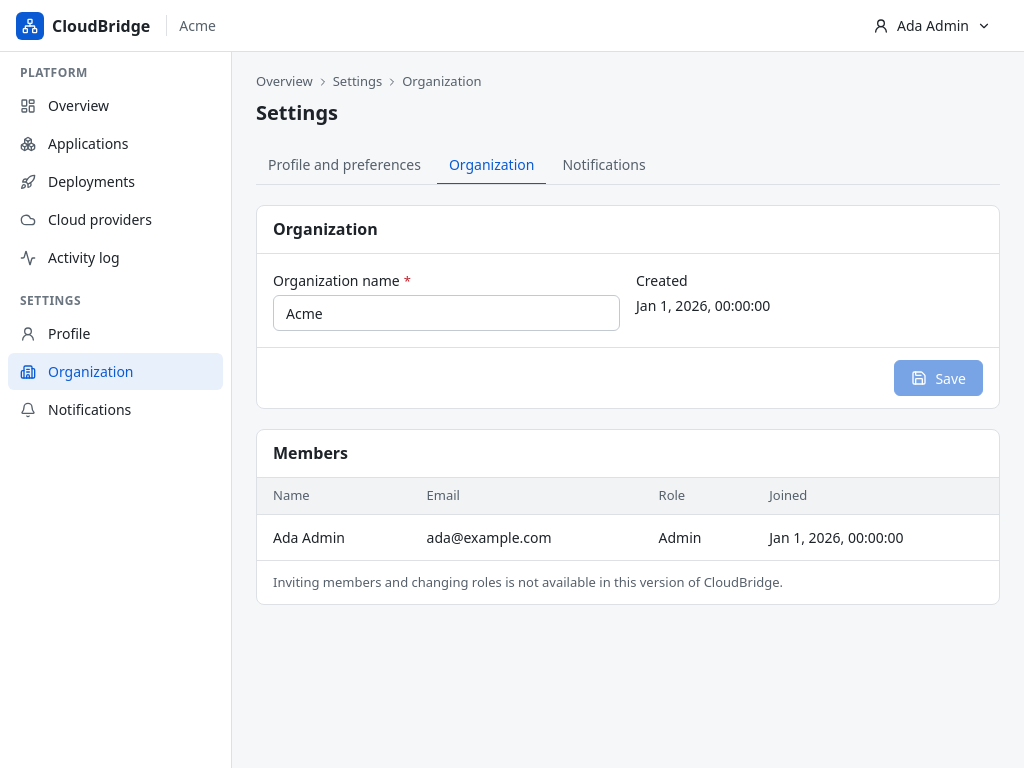
Test: settings › shows members read-only and lets administrators rename the organization
The width and height of the screenshot is (1024, 768).
Expected: the table named "Organization members" is shown, [257,478,999,560]
Step 1. Replace the text in the field labelled "Organization name*" with "Acme Cloud" → {"x": 446, "y": 313}, box [273,295,620,331]
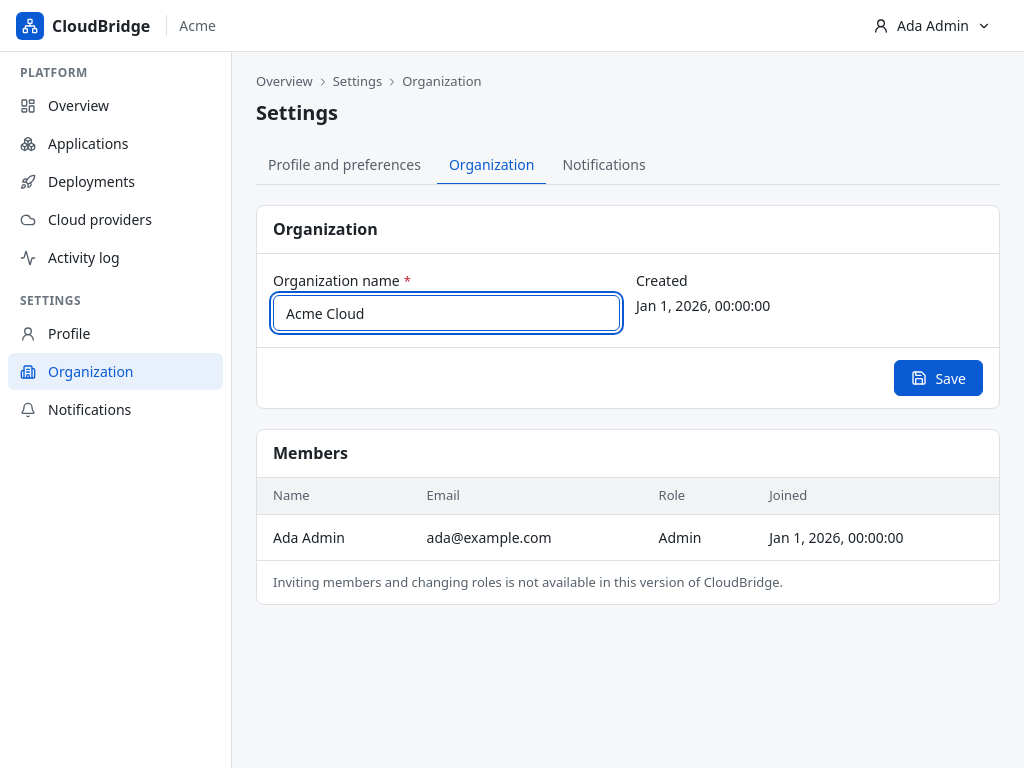
Step 2. Click the button "Save" → {"x": 939, "y": 378}, box [894,360,983,396]
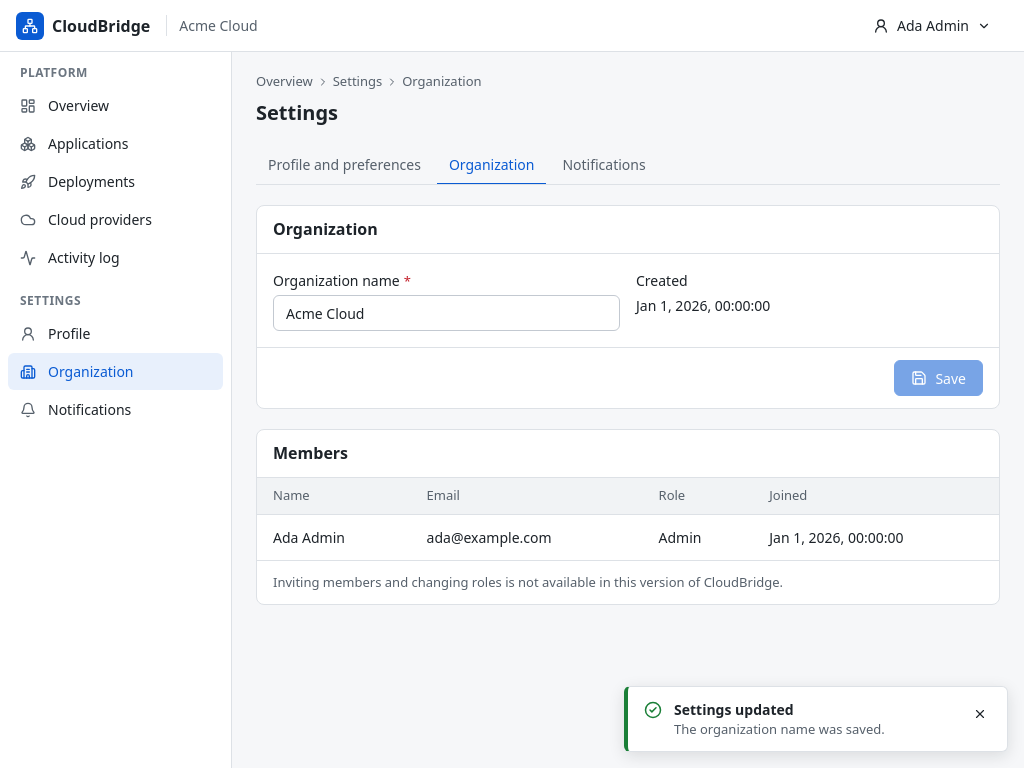
Now the text "Acme Cloud" is shown, box [166,15,258,36]
